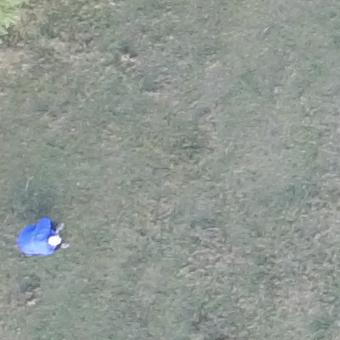human: (15, 214, 71, 258)
